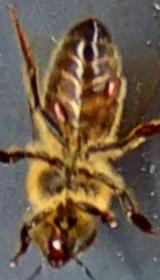varroa_mite: (96, 65, 130, 104), (36, 95, 76, 128)
